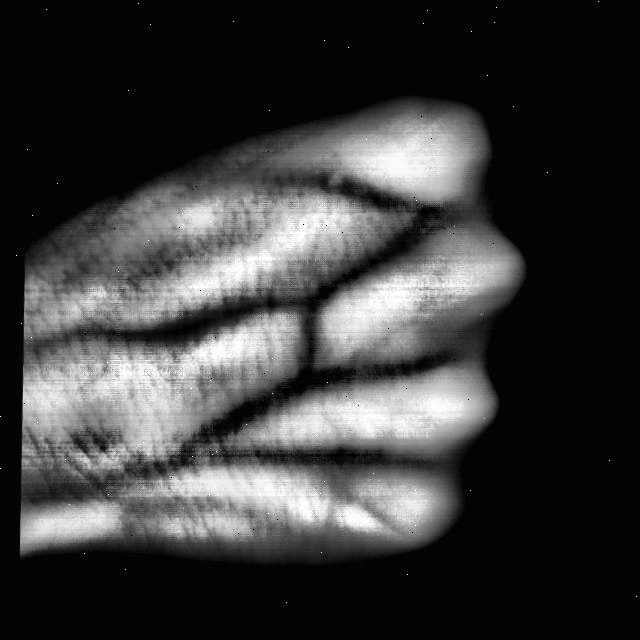Vein: (125, 373, 290, 487)
